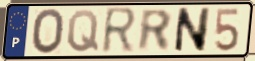5: (213, 7, 242, 54)
N: (172, 6, 213, 55)
O: (31, 7, 67, 56)
Q: (66, 8, 100, 54)
R: (100, 5, 140, 56), (137, 8, 174, 53)
